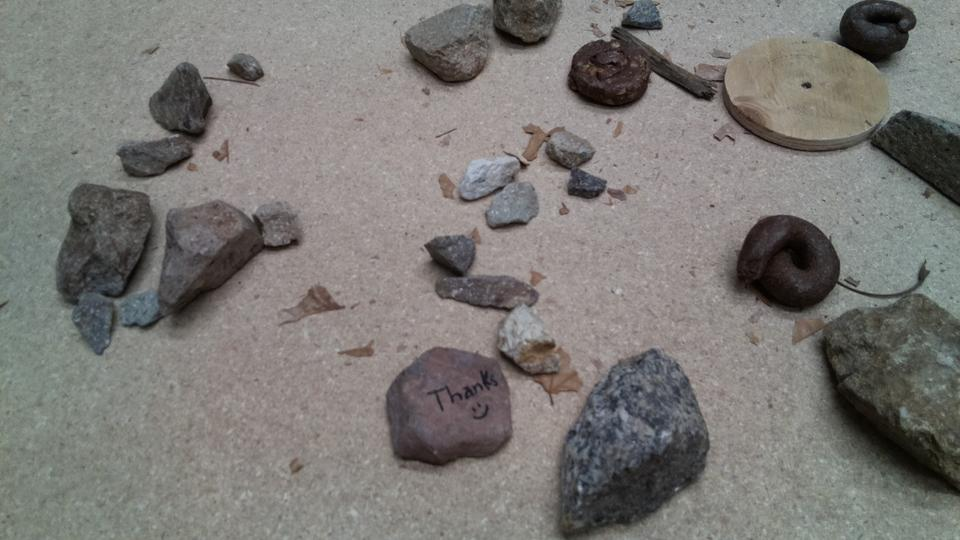poop: (733, 212, 845, 310), (565, 37, 651, 111), (838, 1, 917, 58)
